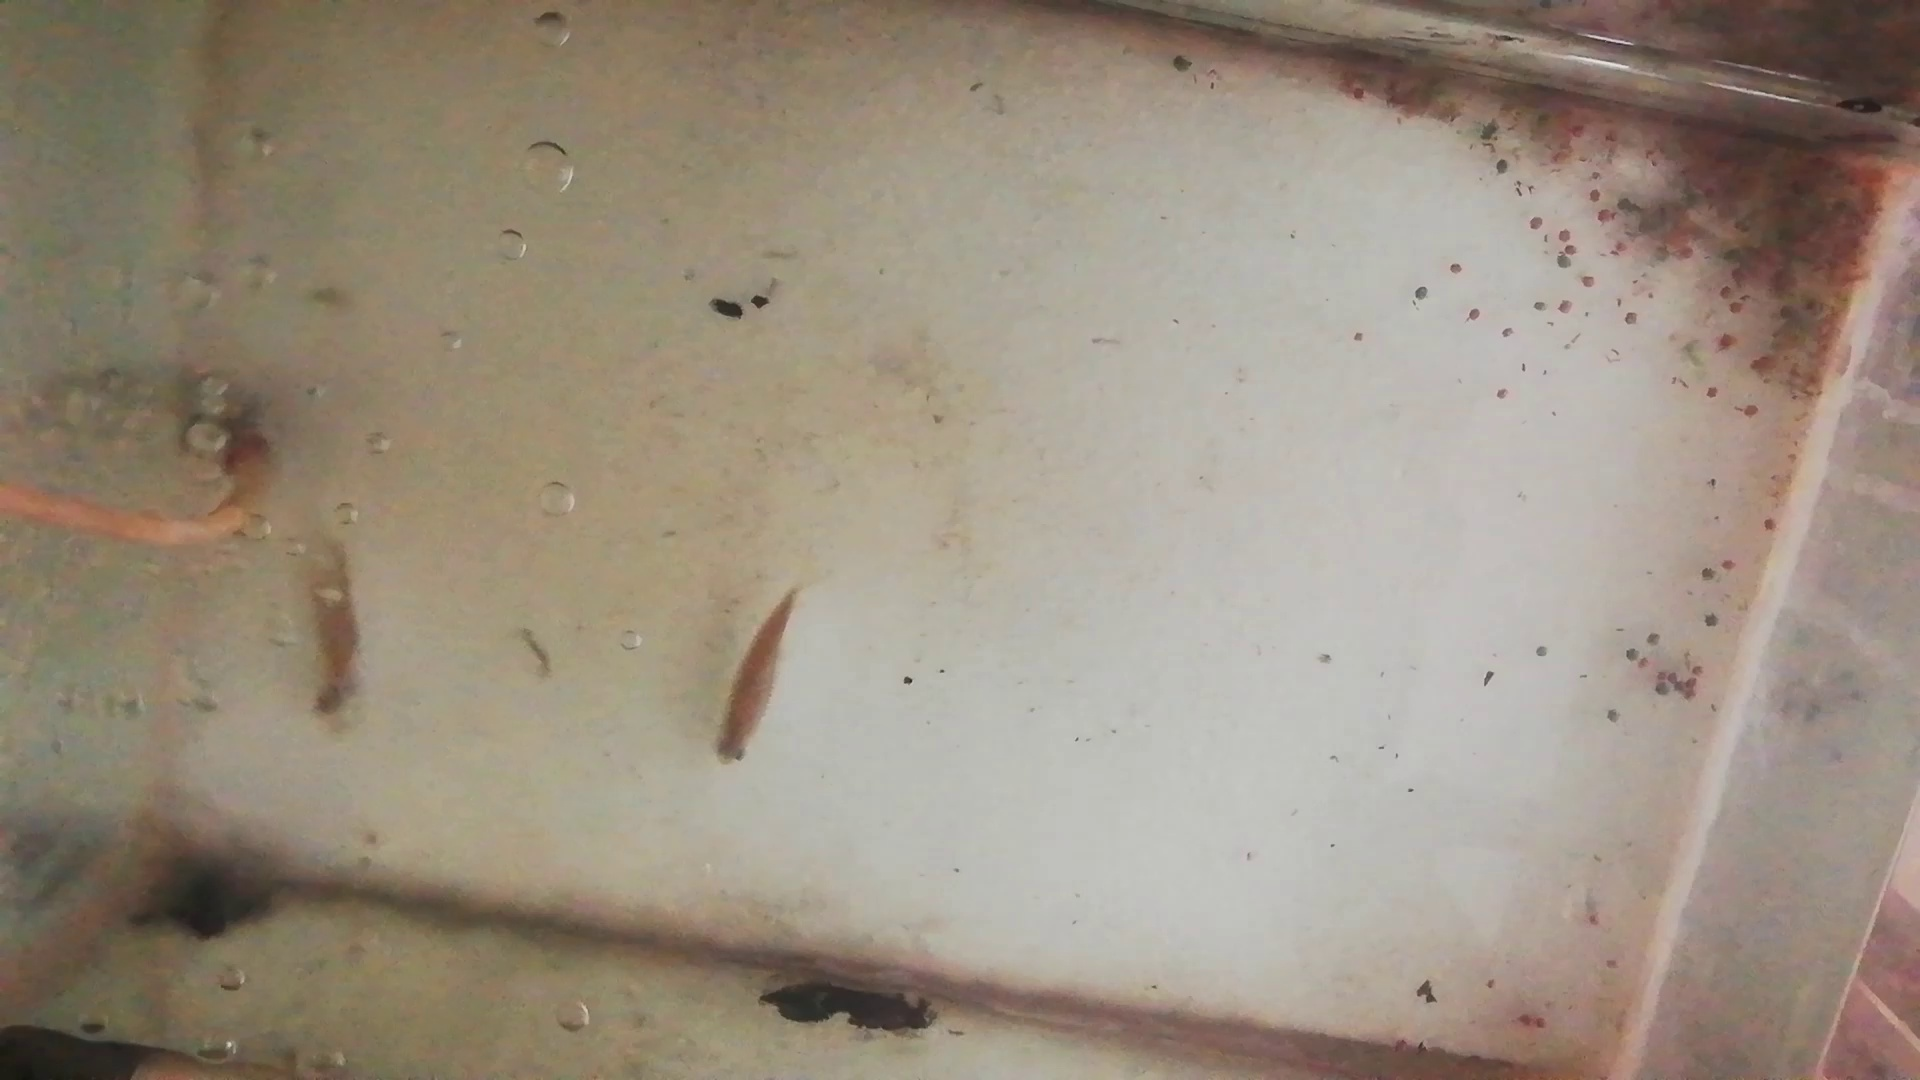fish: (709, 587, 795, 764), (302, 524, 367, 735)
